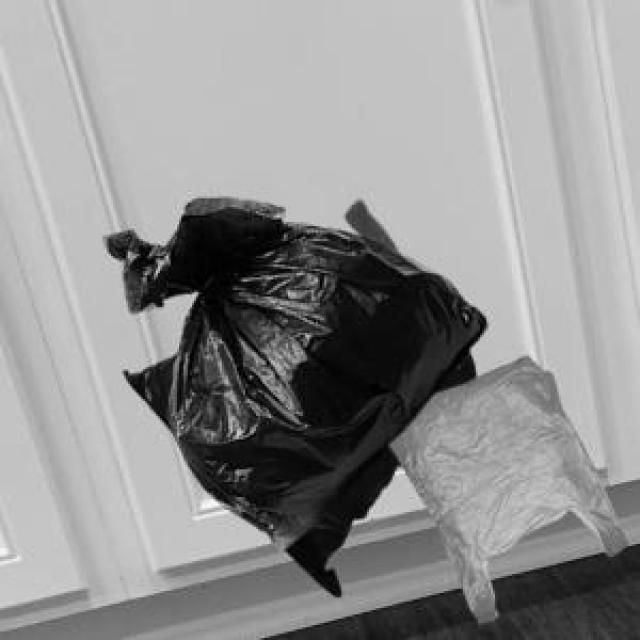miscellaneous trash: (120, 196, 472, 593), (100, 194, 482, 546)
